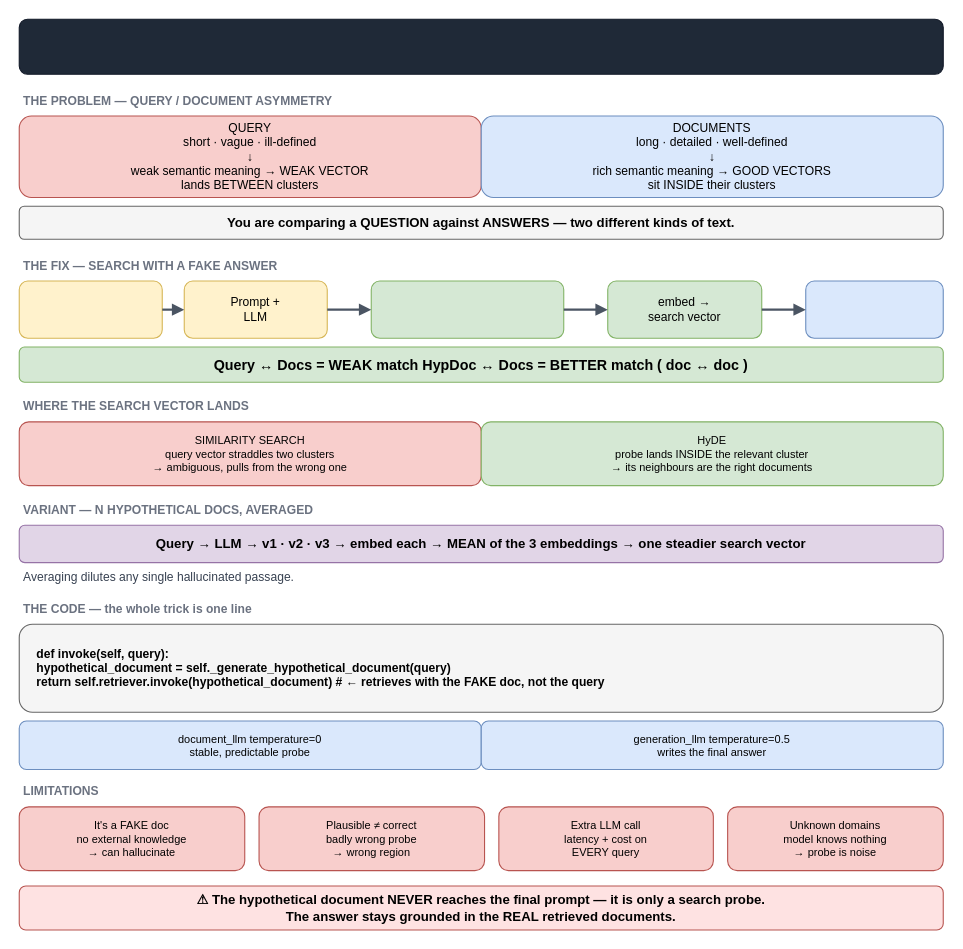
This 963x949 diagram has some shape labels left out. Each missing label, with the centre of its shape:
HyDE — Hypothetical Document Embeddings: point 480,46
HYPOTHETICAL DOC long · detailed: point 467,309
Query: point 90,309
Vector store → REAL docs: point 874,309
